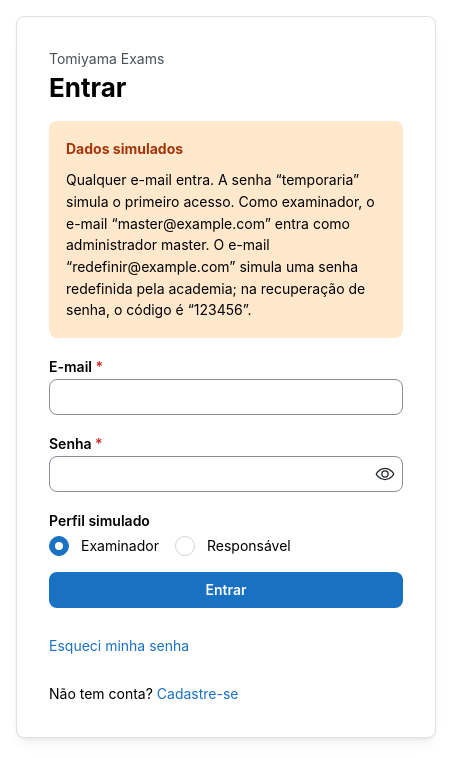
login (§ 6.1) › has labelled fields and the sign-up link
The width and height of the screenshot is (453, 758).
Check: the password field labelled "Senha *" is shown, box [50, 457, 402, 491]
What coordinates should you click on to do the following:
click the link "Cadastre-se"
I would click on:
 (198, 694)
Its box is [157, 686, 238, 702].
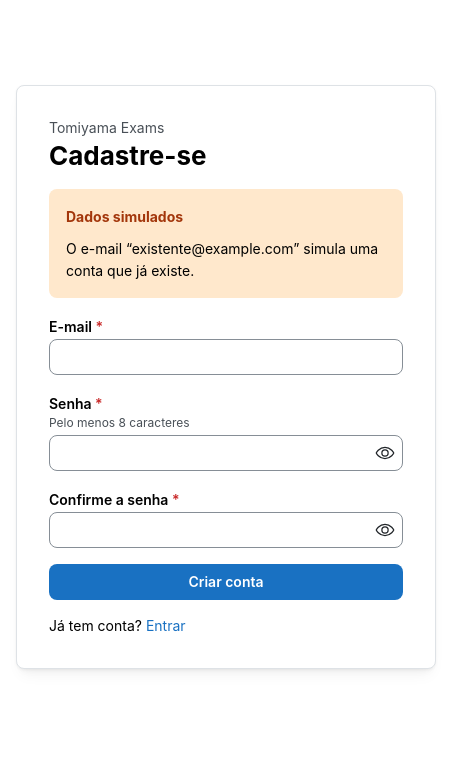
Check: the heading "Cadastre-se" is shown, box [49, 140, 207, 171]
Check: the password field labelled "Confirme a senha *" is shown, box [50, 513, 402, 547]
